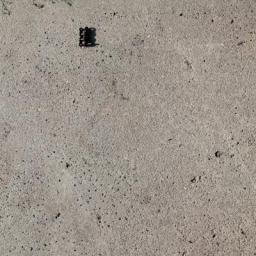FOD: (76, 26, 103, 53)
